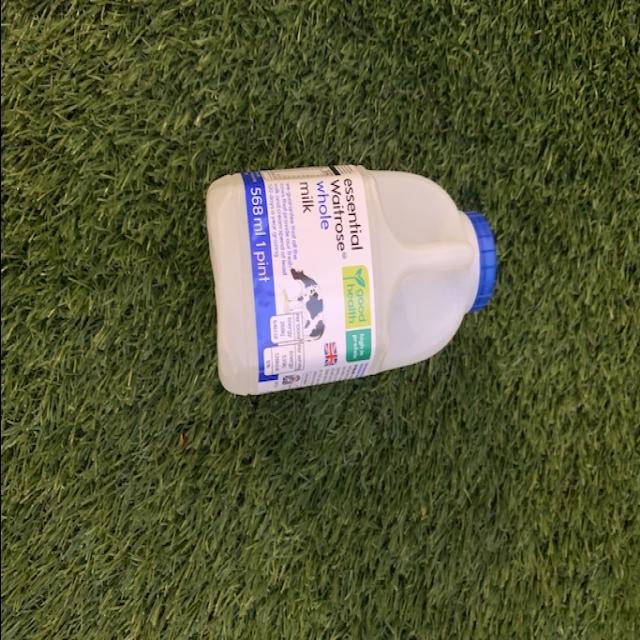HDPEM: (204, 162, 502, 400)
